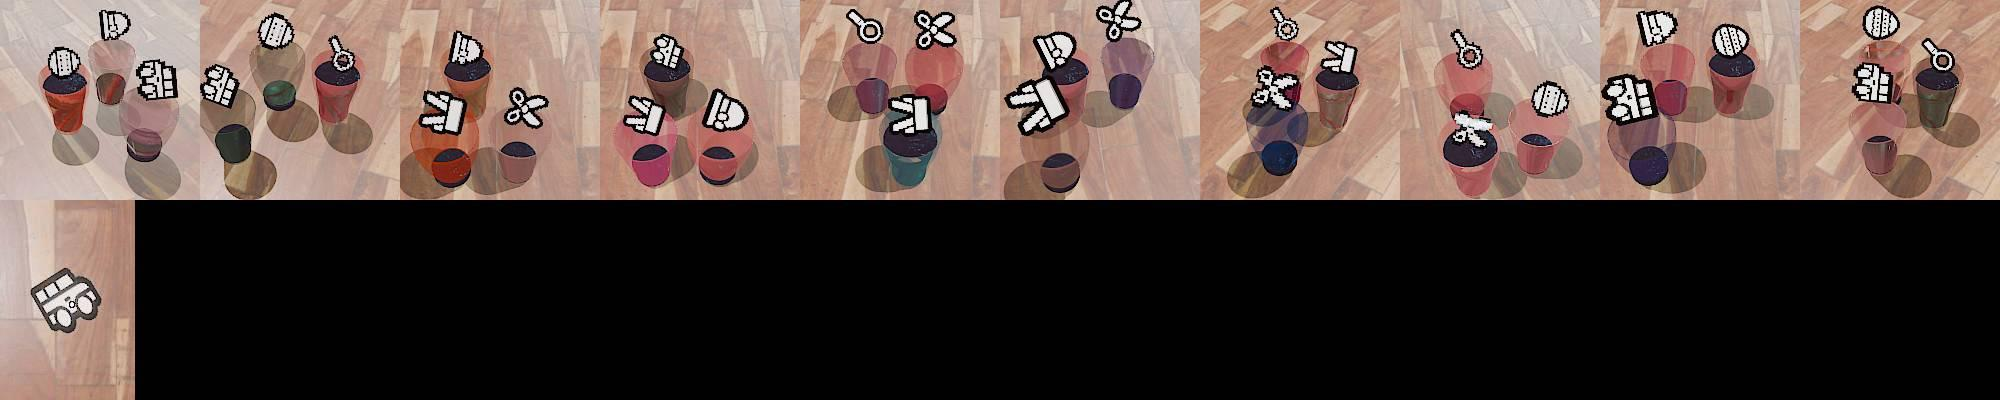icon: (31, 262, 103, 336), (1010, 76, 1070, 135), (1601, 73, 1659, 124), (418, 88, 466, 135), (886, 92, 936, 136), (1851, 61, 1897, 107), (1251, 65, 1300, 108), (702, 88, 749, 131), (1096, 0, 1144, 42), (622, 93, 667, 136), (912, 9, 958, 51), (135, 57, 179, 101), (505, 87, 550, 127), (1033, 31, 1078, 71), (1453, 108, 1496, 149), (202, 62, 240, 106), (1636, 9, 1679, 47), (1531, 79, 1570, 117), (846, 8, 883, 46), (1450, 28, 1483, 70), (449, 29, 485, 68), (256, 13, 295, 48), (649, 33, 685, 70), (1713, 23, 1750, 59), (1864, 6, 1901, 39), (1921, 38, 1954, 73), (1321, 39, 1356, 73), (328, 34, 356, 74), (98, 9, 130, 43), (48, 46, 82, 78), (1270, 6, 1300, 42)
